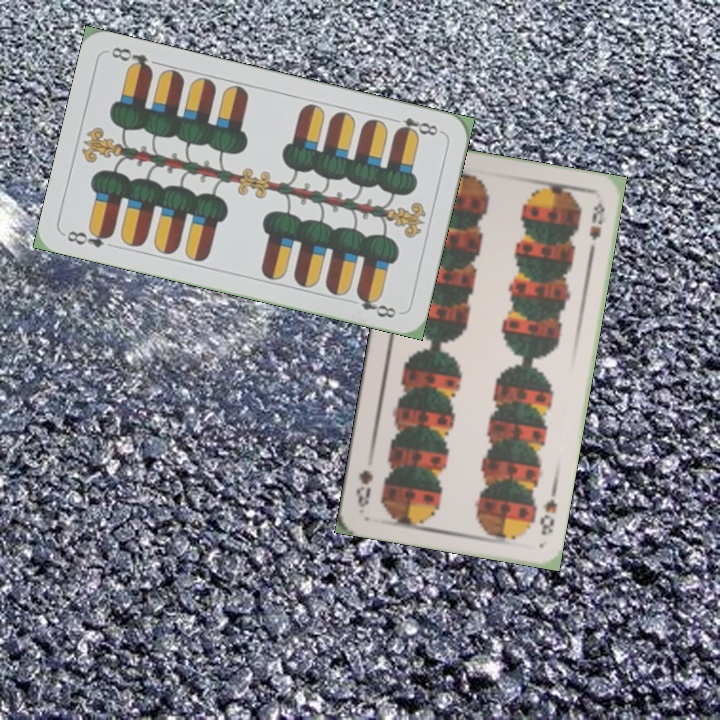E8: (386, 113, 445, 140), (61, 224, 116, 250)
S8: (536, 483, 559, 538)
